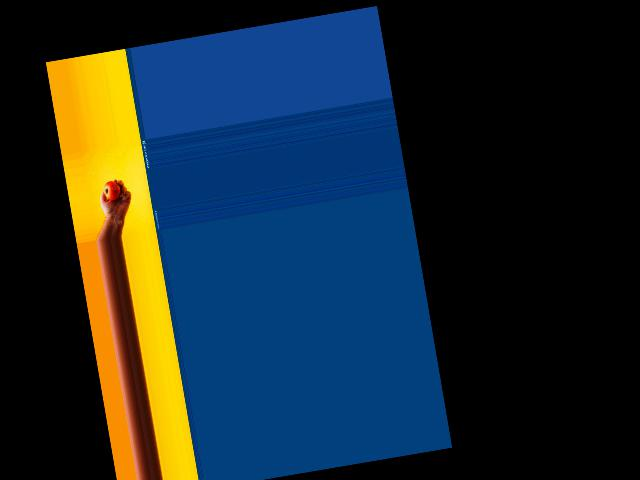tomato: (103, 180, 122, 201)
